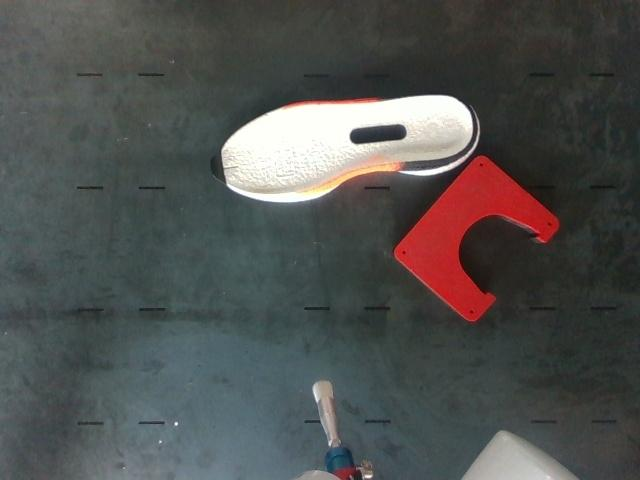shoes: (212, 95, 476, 195)
